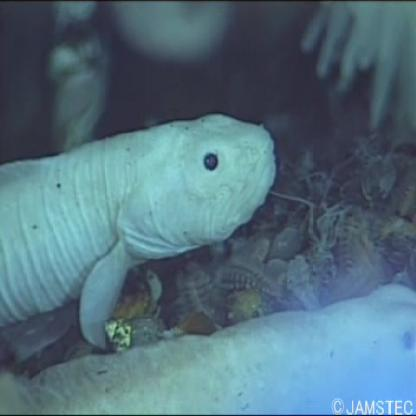Bio: (1, 104, 281, 354)
